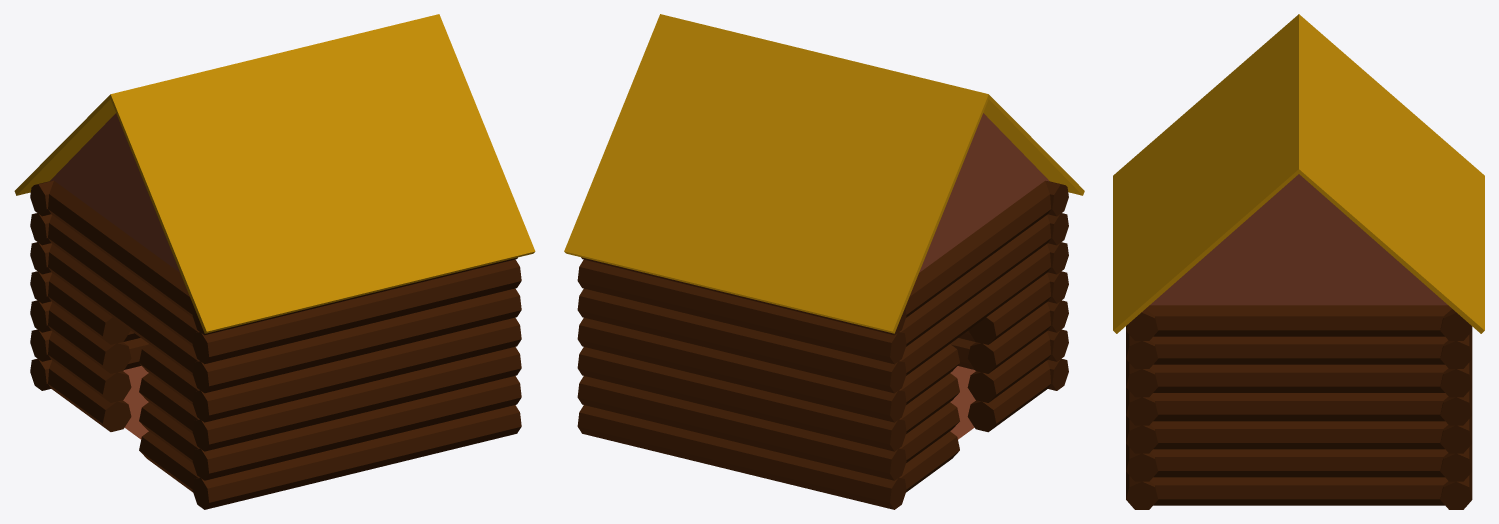
File: Drwal.fbx
The picture shows the model from 3 angles, left to right: view 1: azimuth 30°, elevation 25°; view 2: azimuth 150°, elevation 25°; view 3: azimuth 270°, elevation 25°; orthographic projection. The views are drawn at different scales.
Visible parts, largest first — view 1: Hata; view 2: Hata; view 3: Hata.
Part boxes in pixels (x1,y1,x2,y2): Hata: [14, 14, 535, 509]; Hata: [564, 14, 1084, 509]; Hata: [1113, 14, 1484, 509].
Size of the model in its own units: 112 by 116 by 114.
